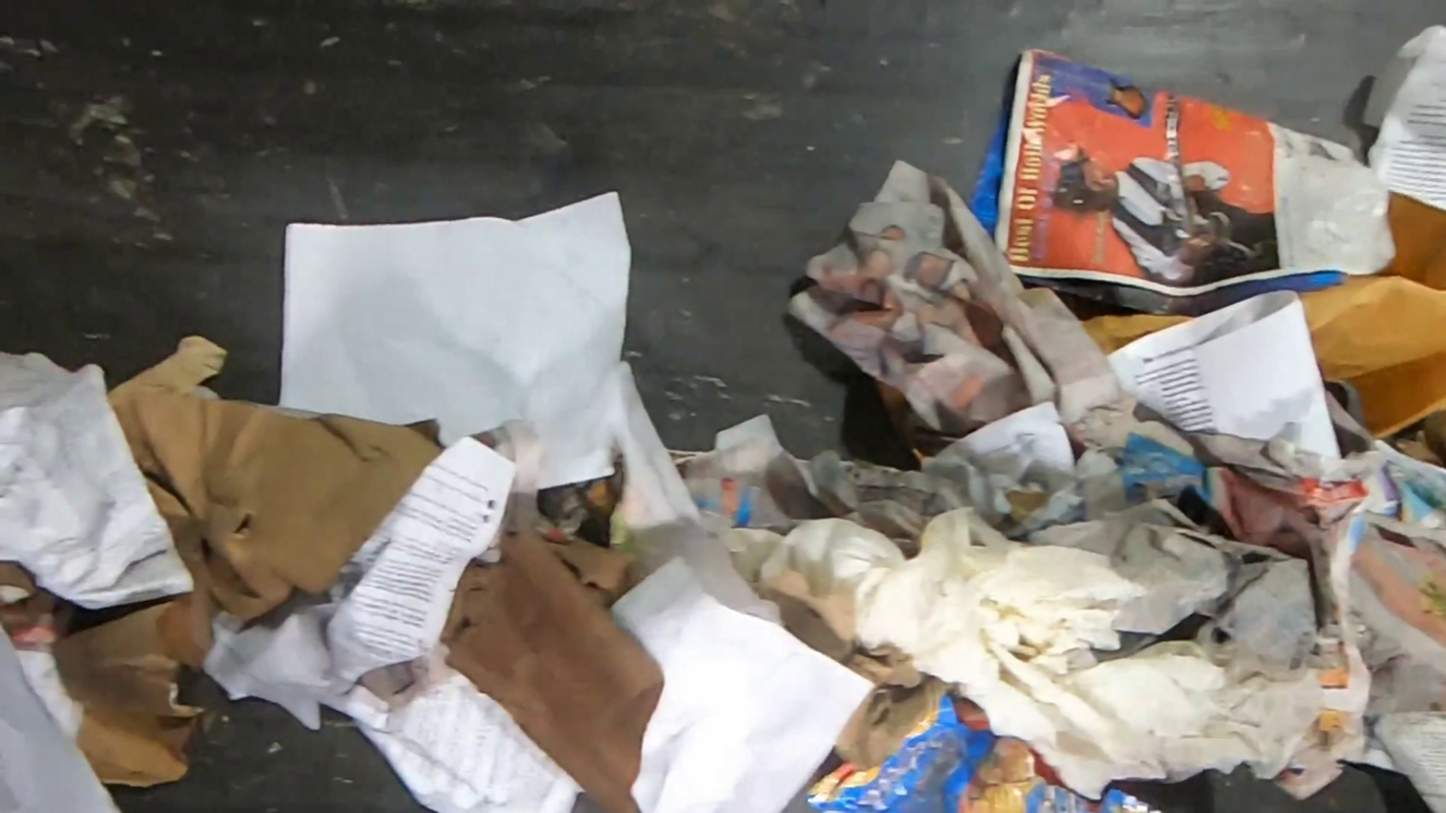cardboard: (50, 335, 445, 788), (441, 527, 665, 813)
plastic: (797, 692, 1169, 813)
